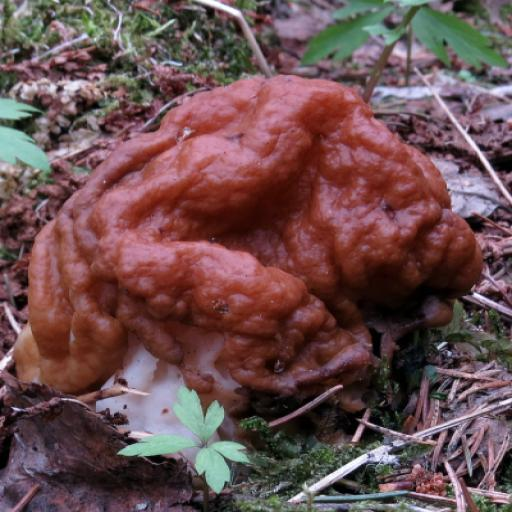mushroom: (0, 28, 496, 477)
